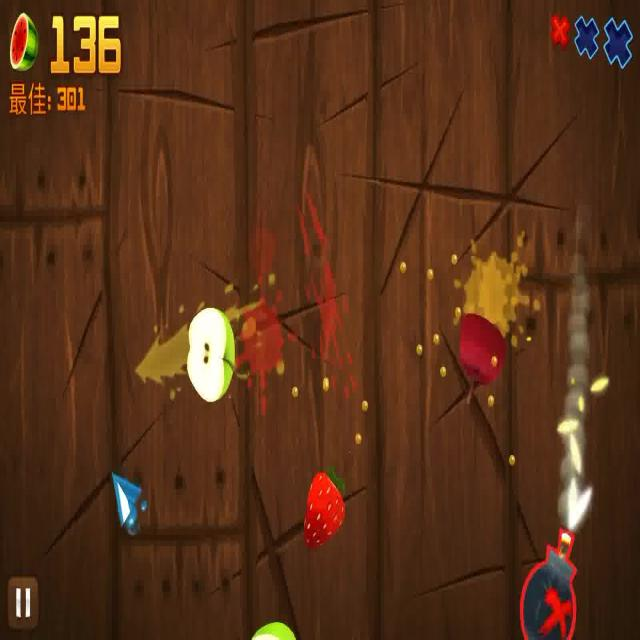bomb: (516, 510, 583, 640)
fruit: (188, 305, 237, 400), (300, 463, 346, 555), (458, 309, 503, 399), (242, 618, 294, 640)
